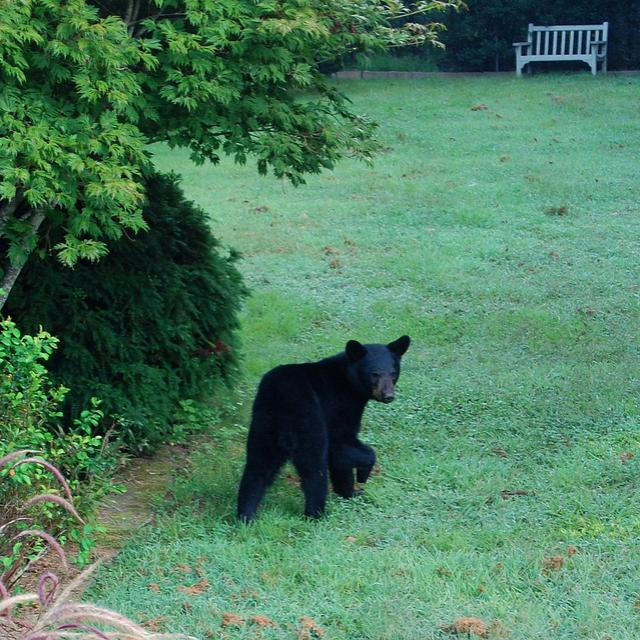Bear: (238, 332, 416, 520)
